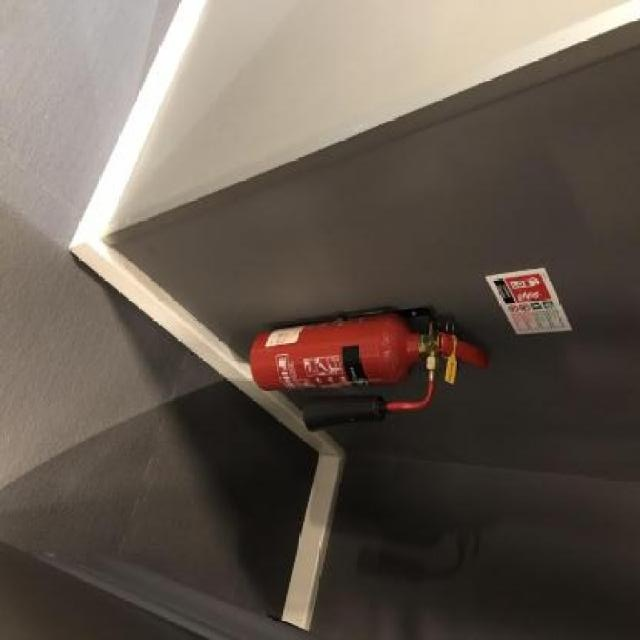fire extinguisher: (250, 314, 484, 434)
